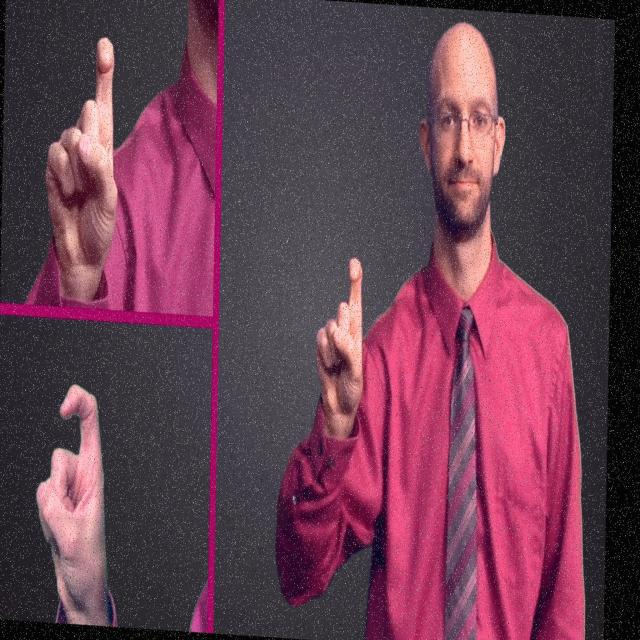X: (32, 377, 116, 614), (42, 32, 123, 272), (312, 252, 367, 419)
